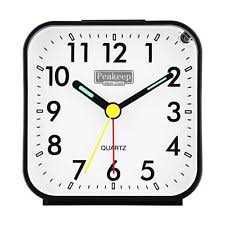alarm_clock: (23, 19, 201, 202), (23, 24, 201, 202)
